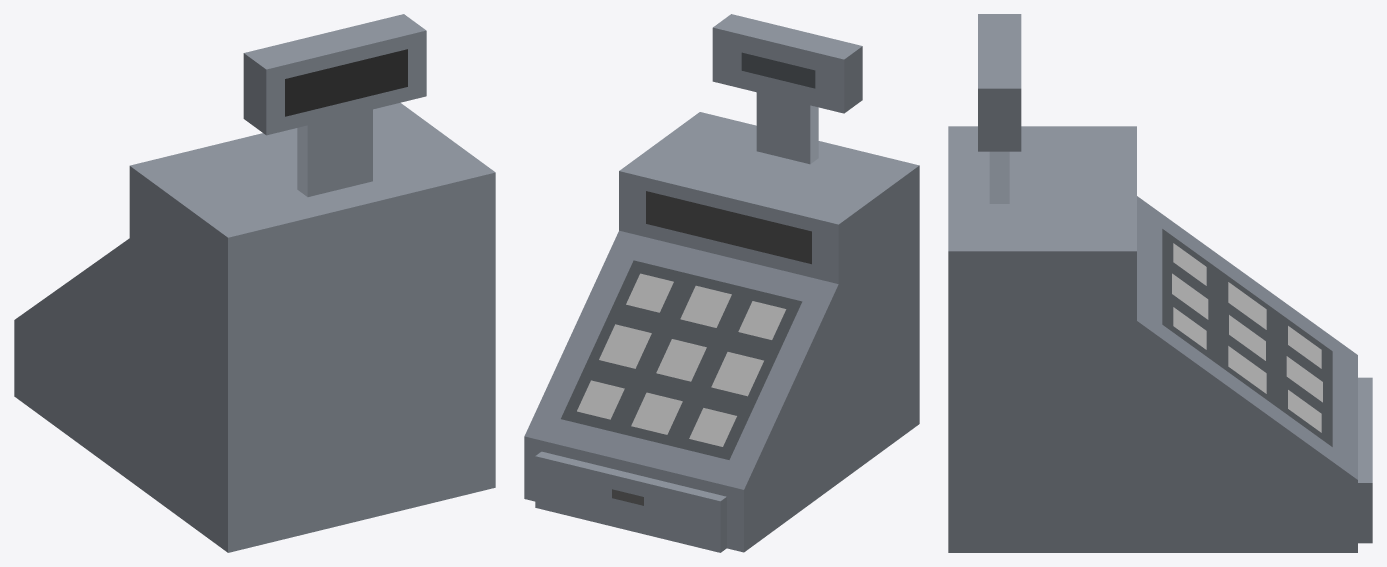
File: Register.glb
3 renders of one model, left to right at view 1: azimuth 30°, elevation 25°; view 2: azimuth 150°, elevation 25°; view 3: azimuth 270°, elevation 25°, orthographic. The views are drawn at different scales.
Visible parts, largest first — view 1: SI_Prop_Register_01; view 2: SI_Prop_Register_01; view 3: SI_Prop_Register_01.
Part boxes in pixels (<box>): SI_Prop_Register_01: <box>14,14,495,552</box>; SI_Prop_Register_01: <box>524,14,919,552</box>; SI_Prop_Register_01: <box>948,14,1372,552</box>.
Bounding box in the file's own units: 0.00713 × 0.0117 × 0.0102.
Materials: 1 (1 with a texture image).
